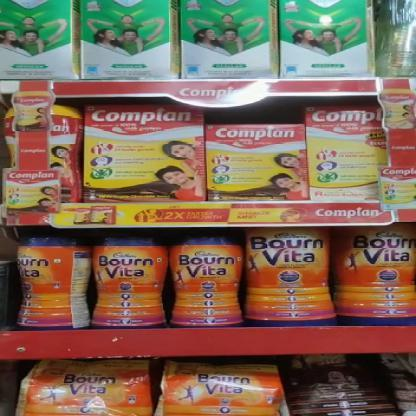Complan Kesar Badam: (310, 108, 387, 205)
Complan Royal Chocolate: (86, 106, 206, 202), (208, 124, 310, 202)
